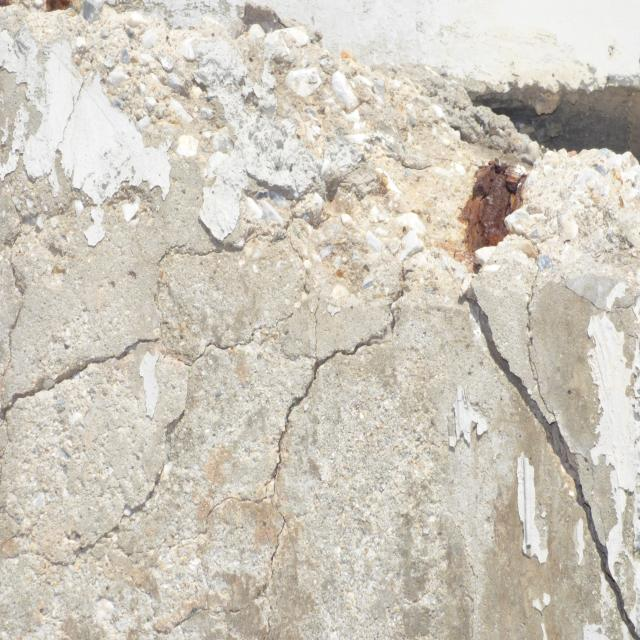corrosion: (456, 141, 535, 275)
